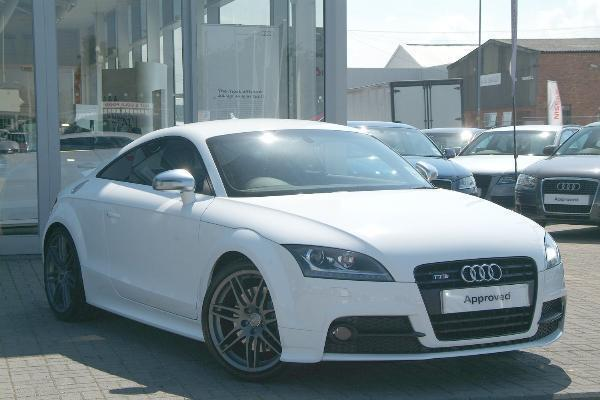car: (26, 110, 575, 400), (511, 97, 600, 230)
